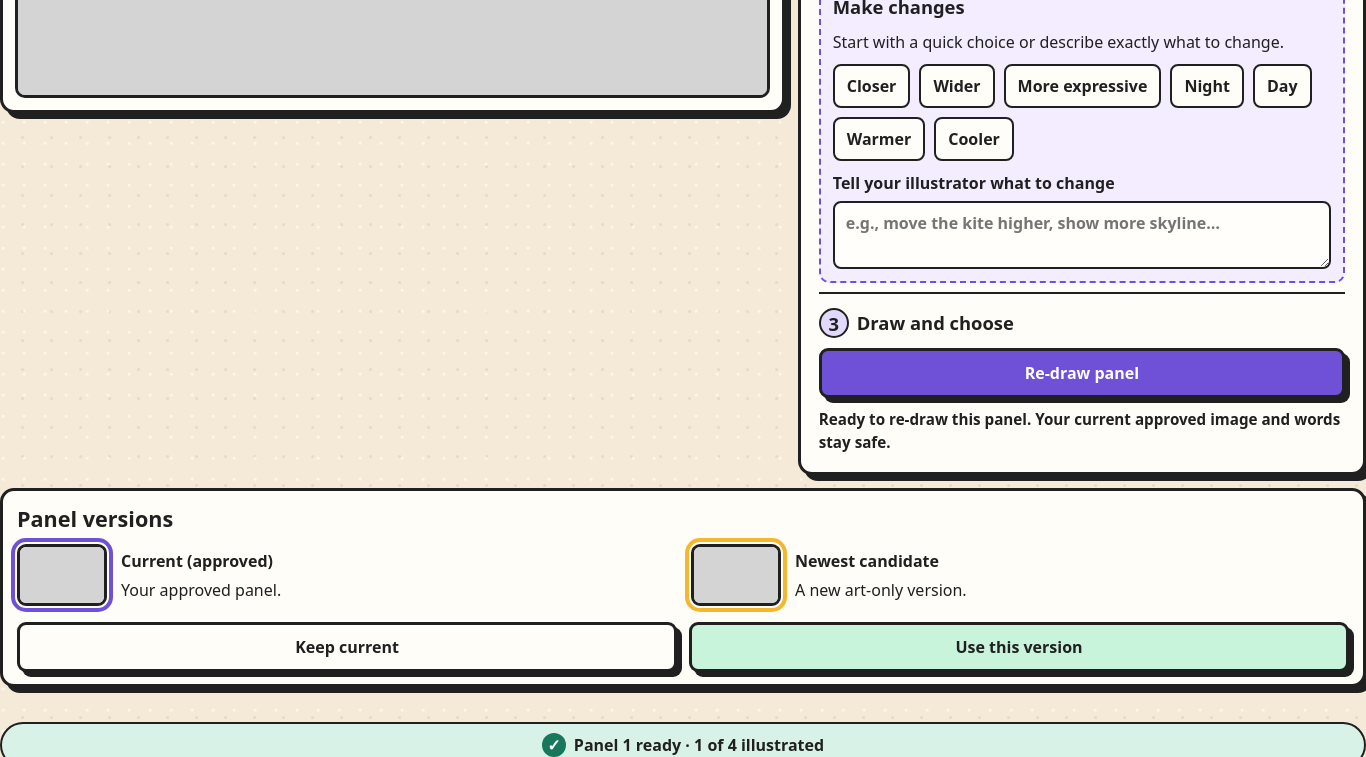
Test case: PanelWorkshop › clears quick direction, custom direction, and notices when changing panels
This screenshot has width=1366, height=757.
(page scrolled)
Click the button "Re-draw panel" at point(1082, 373), box [819,348,1345,398]
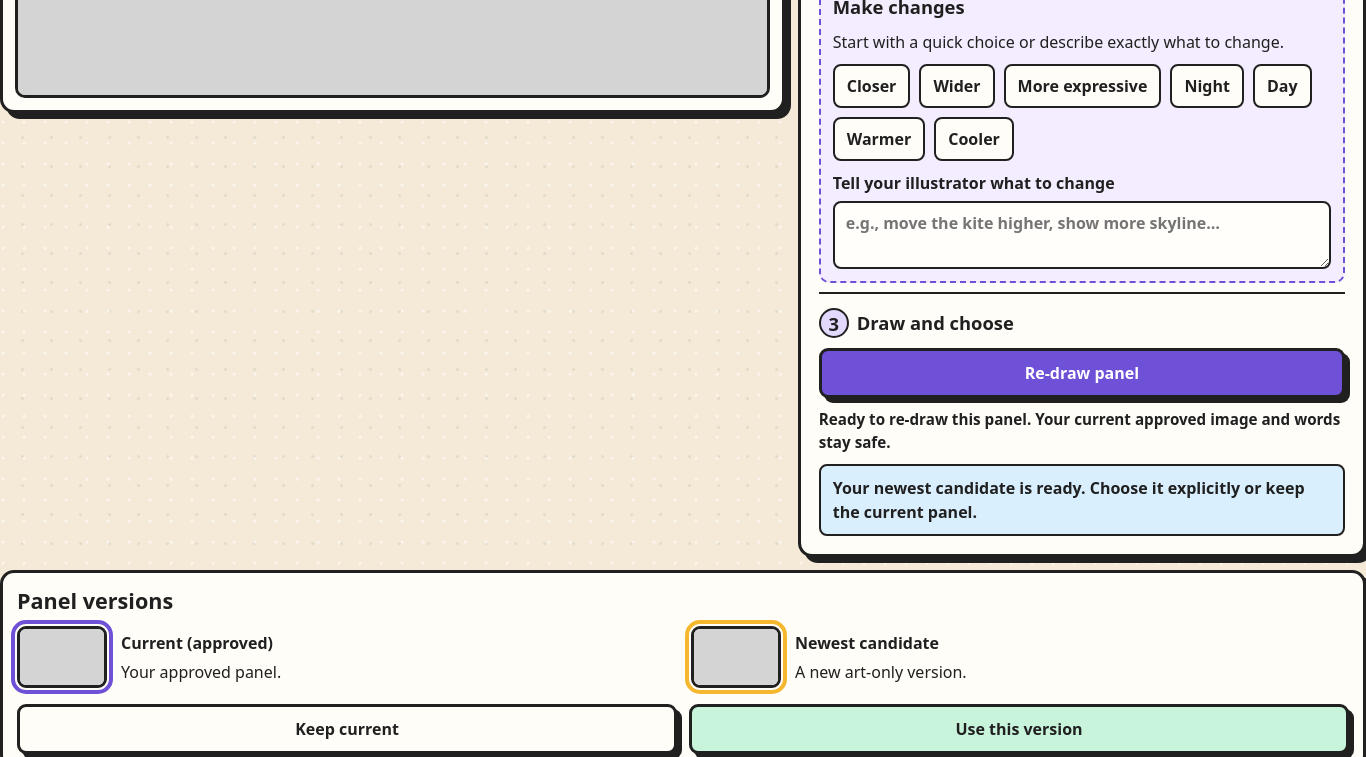
expect the text "newest candidate is ready" is shown: met, box [833,477,1304,523]
Click the button "Night" at point(1207, 86), box [1170,64,1244,108]
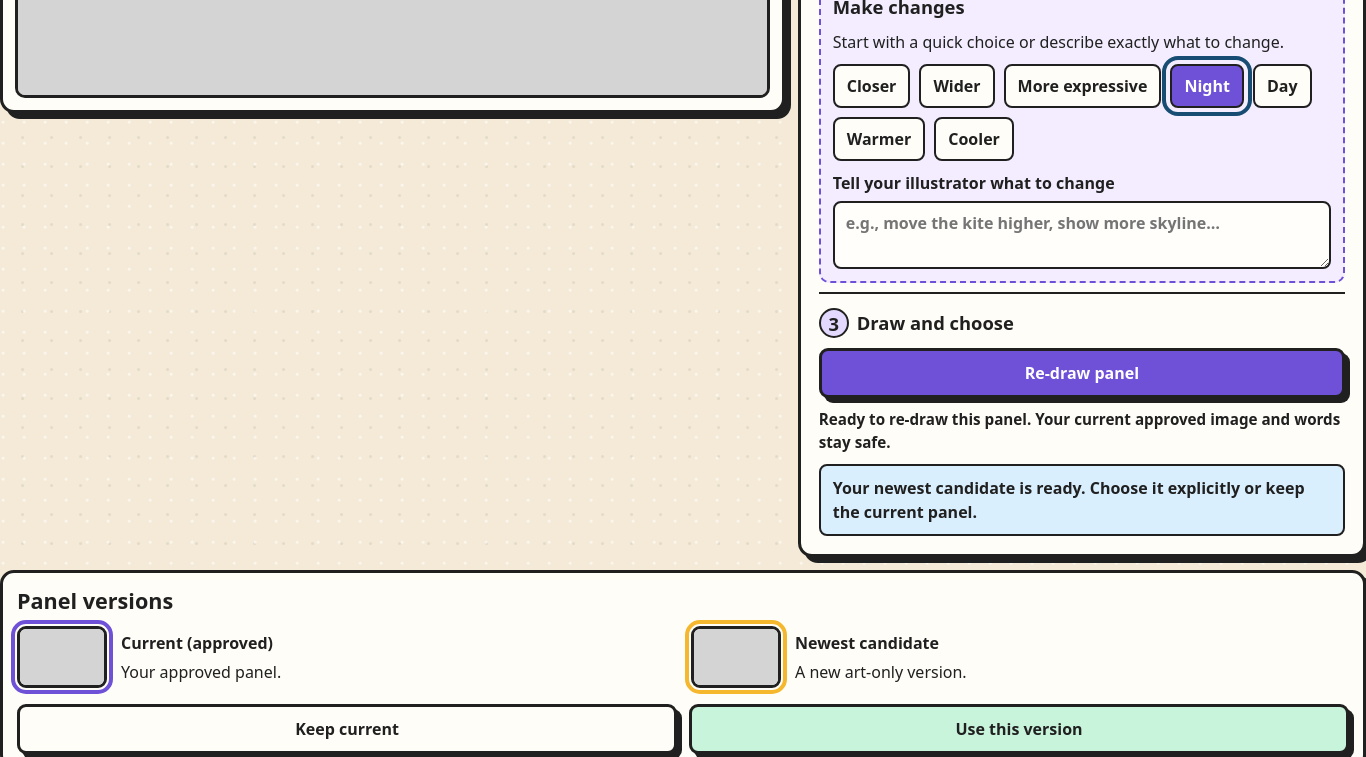
Type "Move the kite higher" into the text box labelled "Tell your illustrator what to change" at point(1082, 235), box [833,201,1331,269]
(page scrolled)
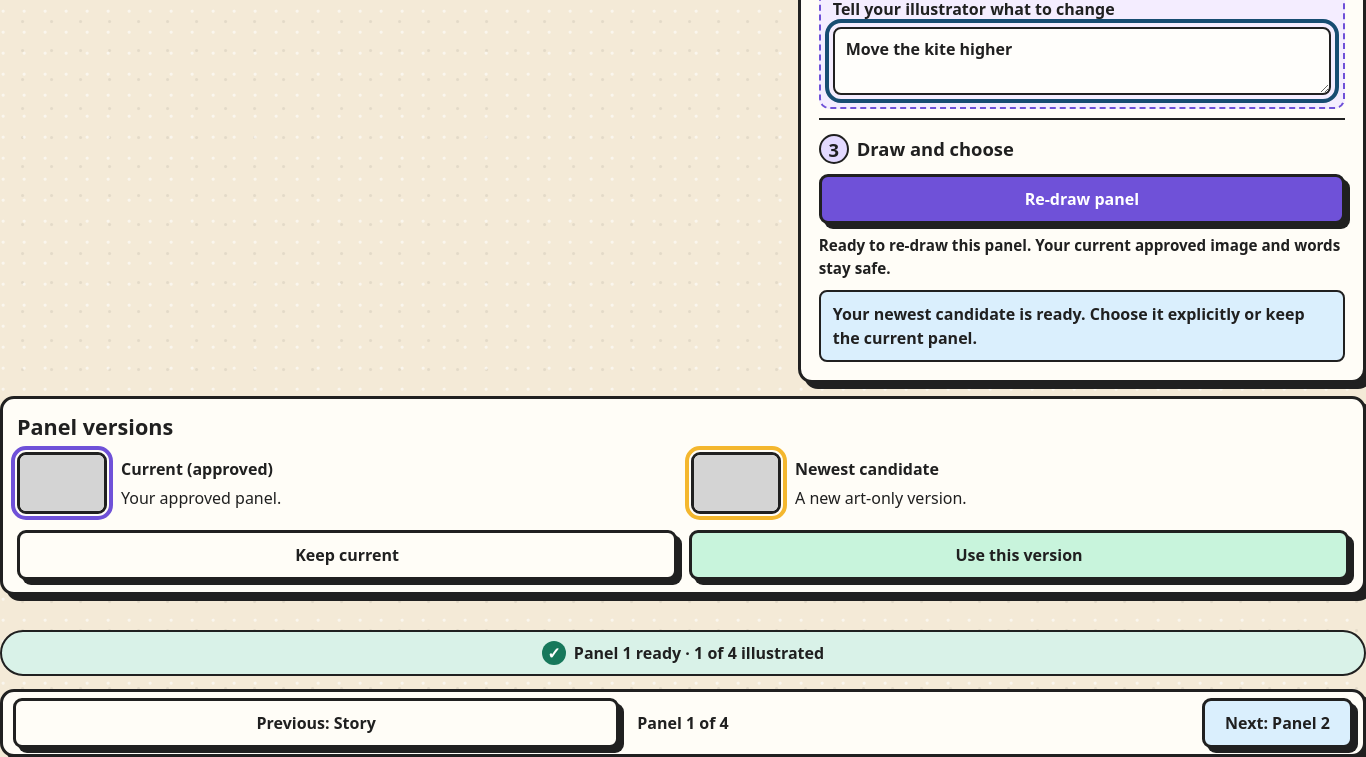
Click the button "Next: Panel 2" at point(1278, 723), box [1202,698,1353,748]
(page scrolled)
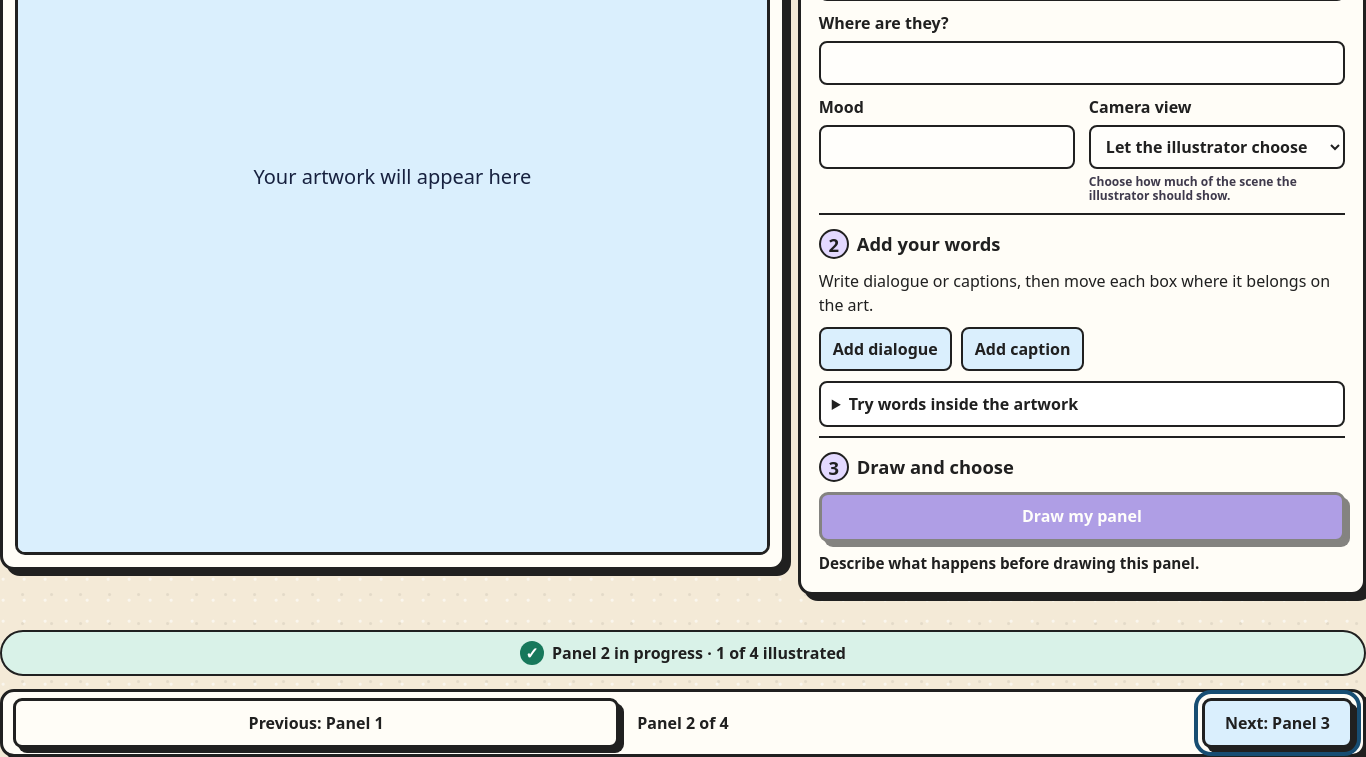
expect the text "newest candidate is ready" is gone: met
